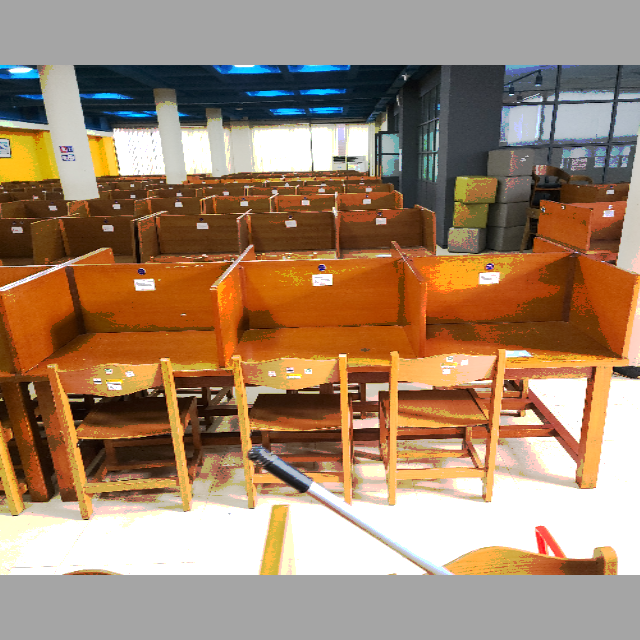empty: (225, 259, 425, 446), (433, 259, 625, 441), (22, 256, 217, 428)
